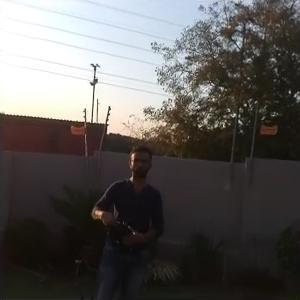follow: (83, 138, 172, 299)
